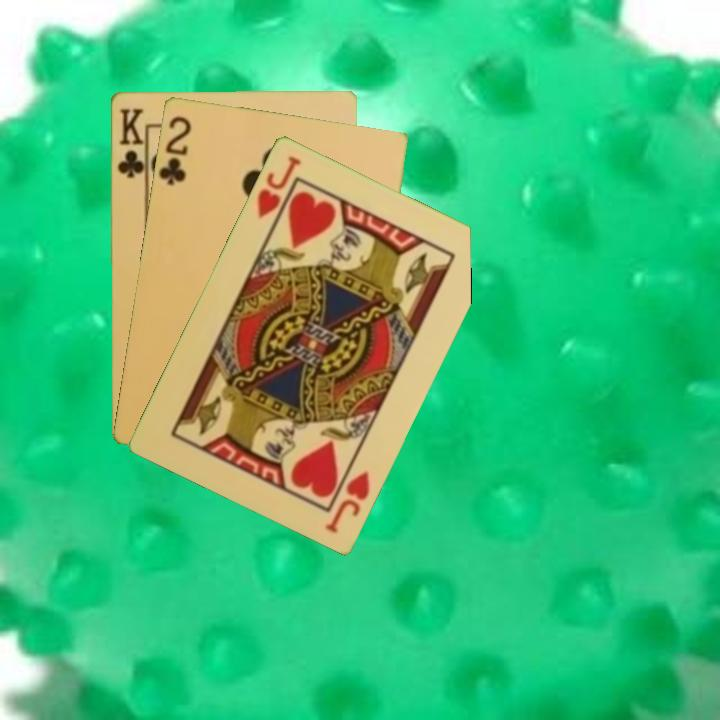2c: (155, 111, 194, 188)
Jh: (321, 467, 373, 536), (253, 151, 304, 221)
Kc: (114, 104, 148, 184)
